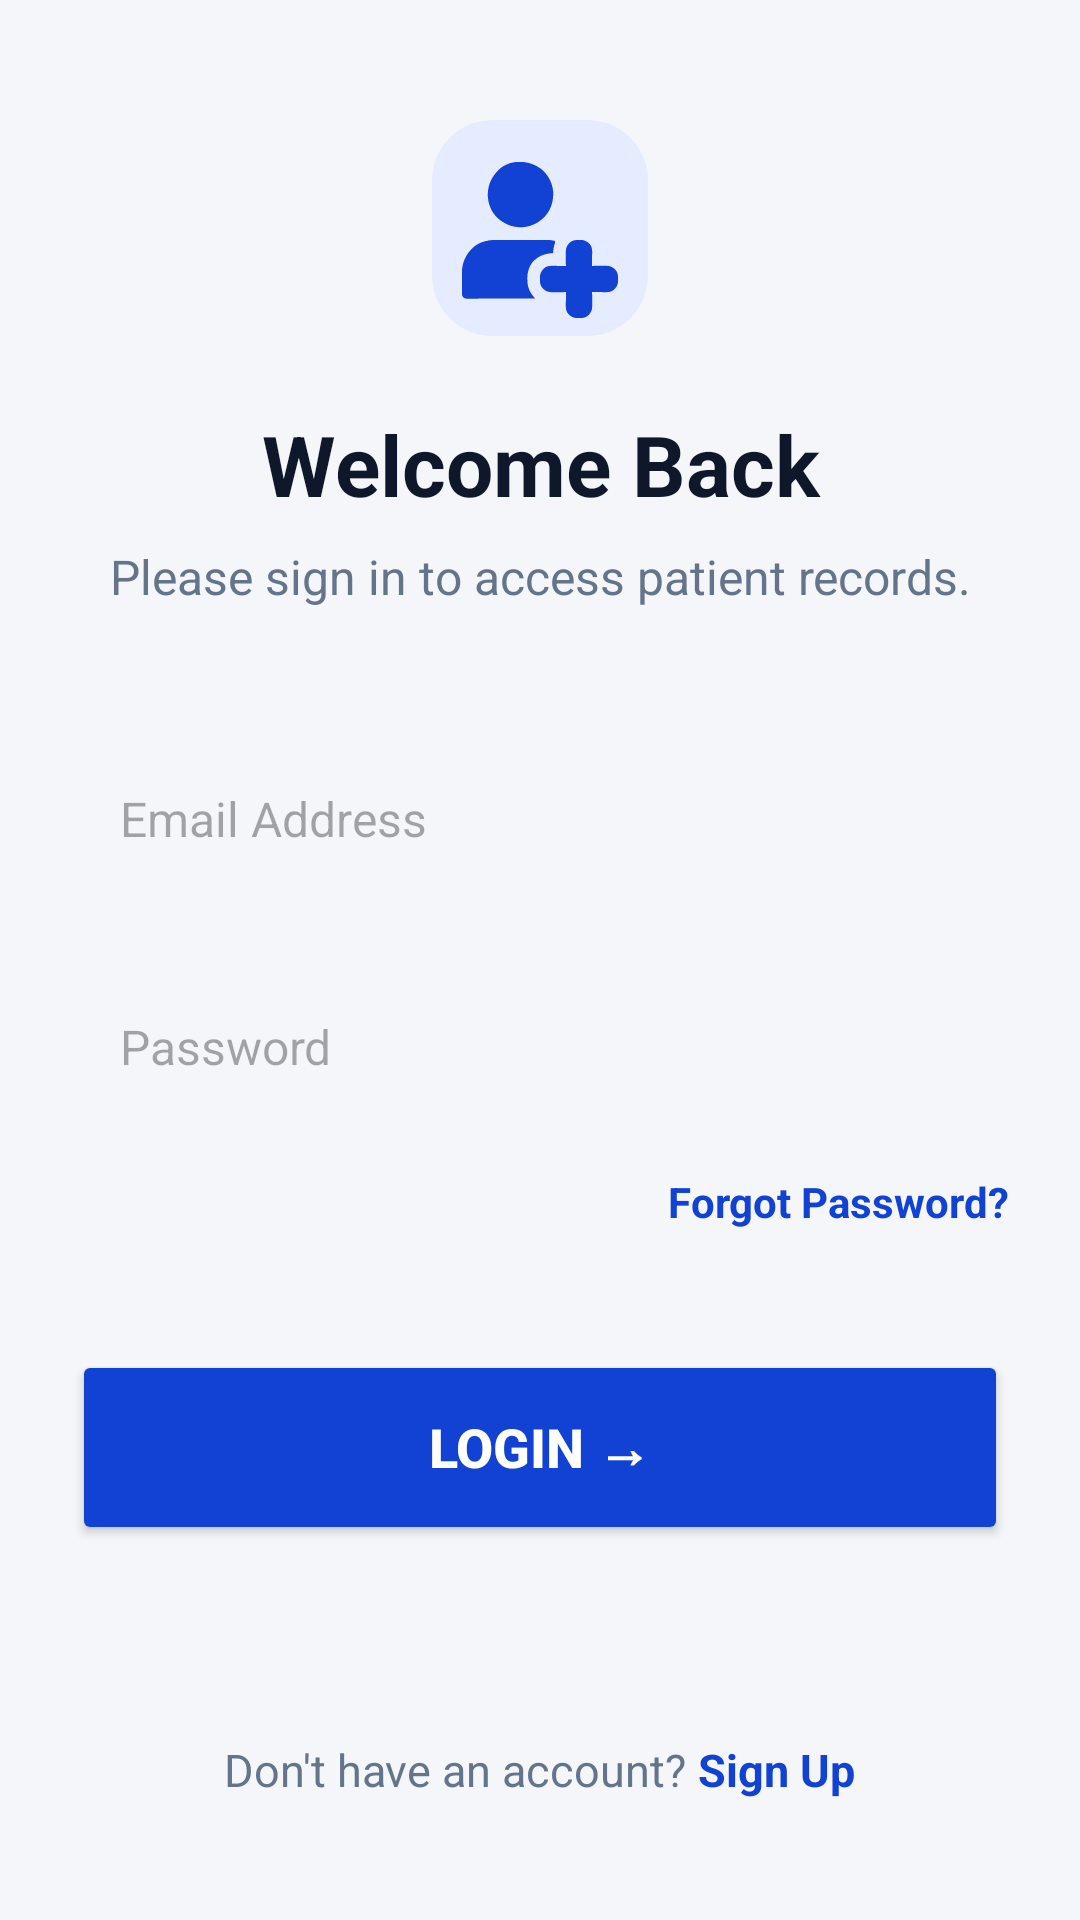

Where to tap for icons on this 1080 × 1920 app screen, as (x,y):
patient: (540,240)
